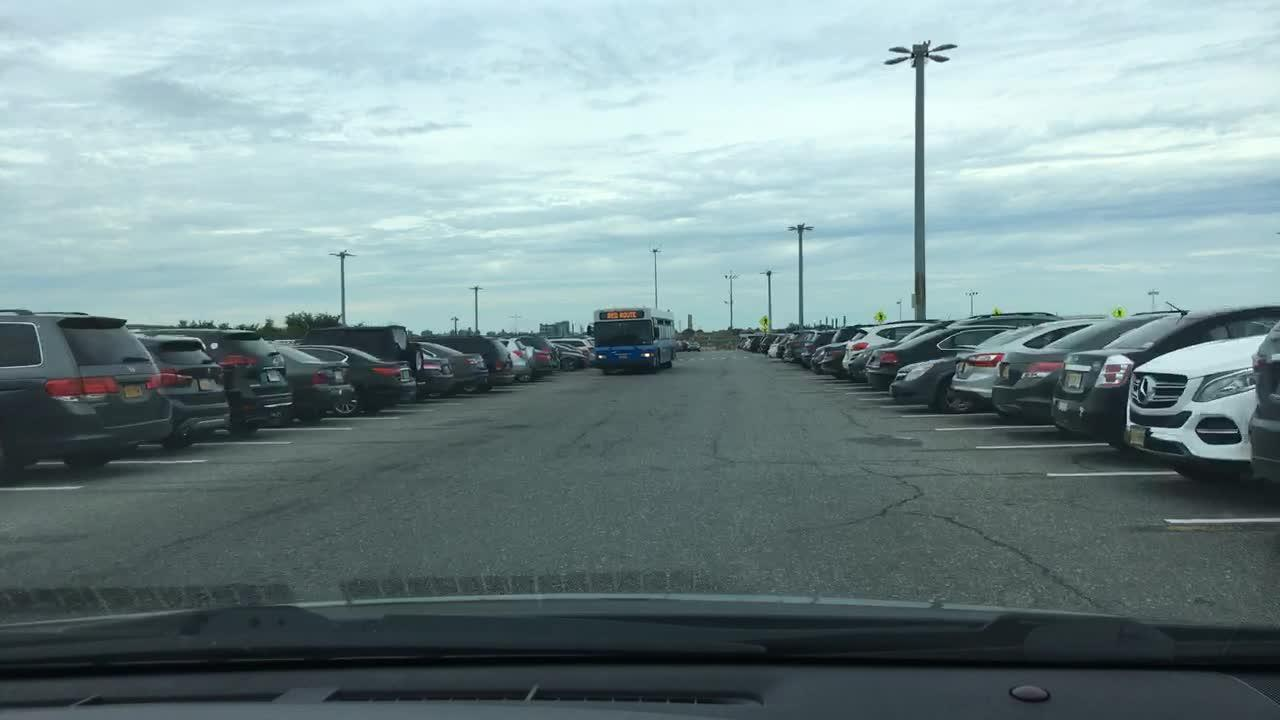Mercedes: (1129, 374, 1159, 414)
